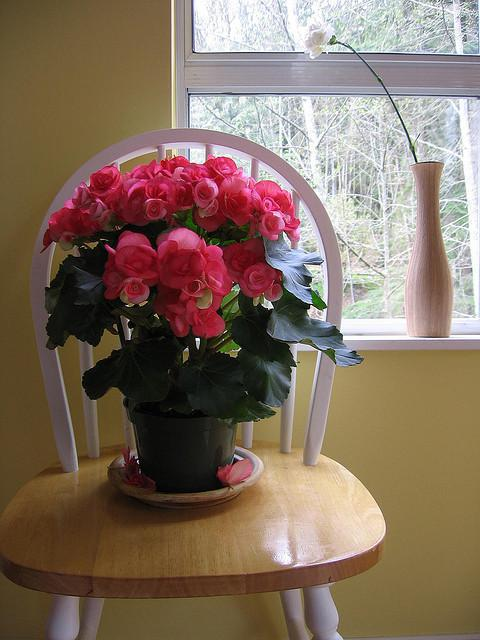Matera: (40, 132, 360, 513)
